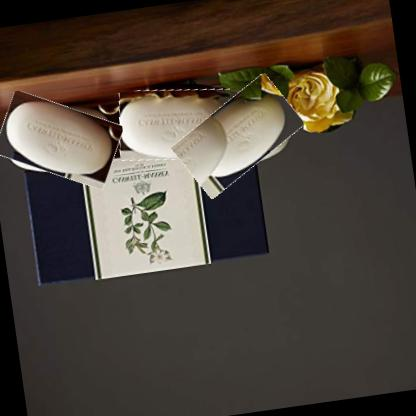soap: (167, 80, 307, 189), (0, 87, 127, 193), (113, 78, 238, 170)
